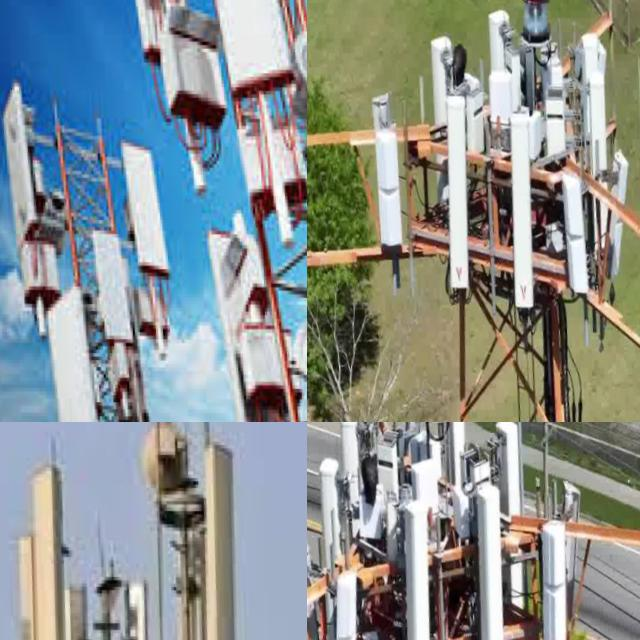GSM Antenna: (177, 446, 256, 640), (173, 0, 307, 108), (4, 463, 85, 640), (420, 89, 481, 308), (483, 108, 543, 326), (455, 478, 518, 640), (21, 294, 100, 422), (99, 140, 169, 280), (381, 498, 443, 640), (72, 224, 130, 357), (354, 125, 408, 261), (564, 31, 615, 171), (541, 177, 592, 313), (0, 81, 40, 241), (592, 150, 633, 303), (525, 518, 573, 640), (478, 422, 527, 531), (472, 5, 522, 111), (307, 456, 347, 575), (325, 422, 370, 520), (418, 35, 457, 126), (315, 566, 361, 640), (307, 538, 324, 640)
Microwave Antenna: (127, 422, 195, 506), (269, 304, 307, 410), (282, 28, 307, 129)
